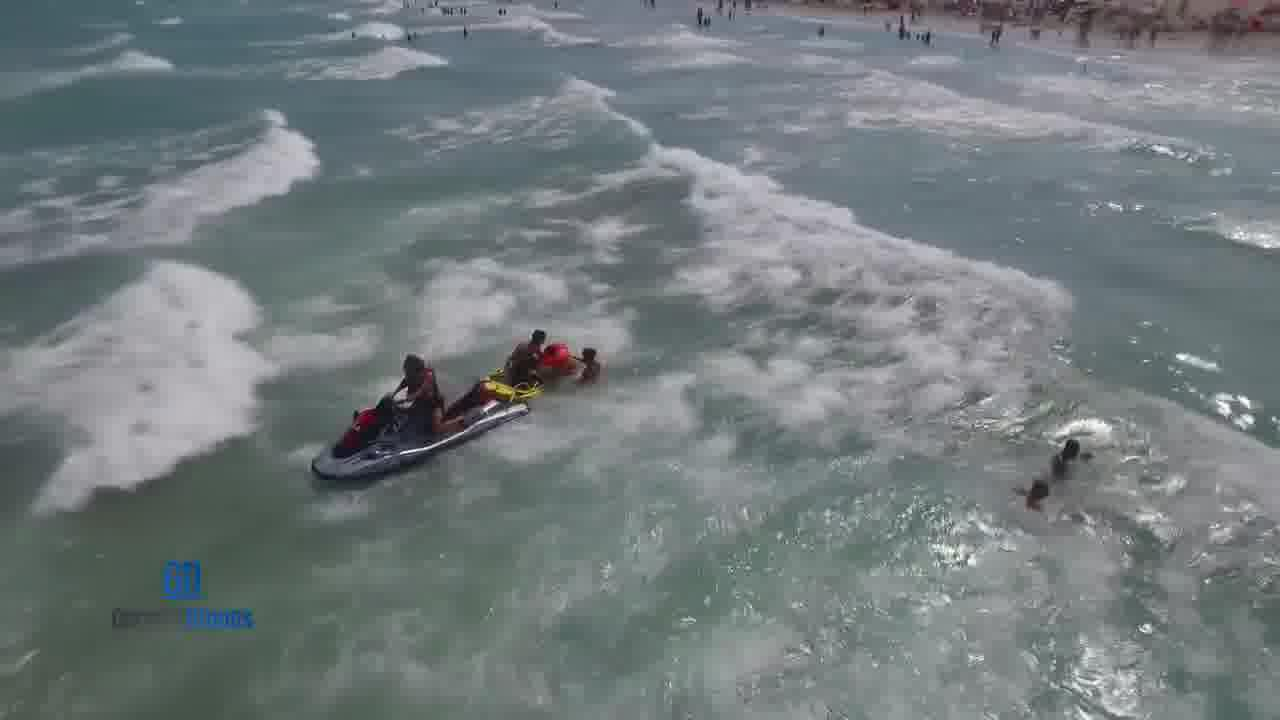human: (1032, 422, 1110, 480), (1002, 467, 1067, 521), (565, 339, 623, 391)
